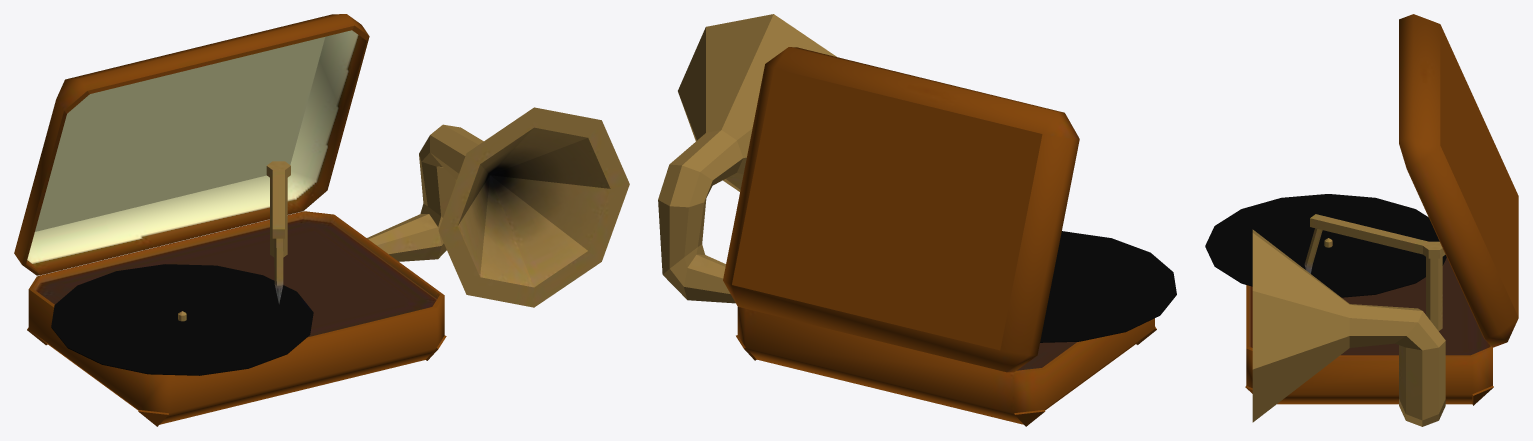
Rendered from vitrola.glb.
3 renders of one model, left to right at view 1: azimuth 30°, elevation 25°; view 2: azimuth 150°, elevation 25°; view 3: azimuth 270°, elevation 25°, orthographic. The views are drawn at different scales.
Visible parts, largest first — view 1: vitrola_0; view 2: vitrola_0; view 3: vitrola_0.
Part boxes in pixels (left/top/right/bottom): vitrola_0: left=14, top=14, right=629, bottom=426; vitrola_0: left=658, top=14, right=1176, bottom=426; vitrola_0: left=1205, top=14, right=1518, bottom=426.
Size of the model in its own units: 0.6825 by 0.362 by 0.3814.
Materials: 1 (1 with a texture image).
